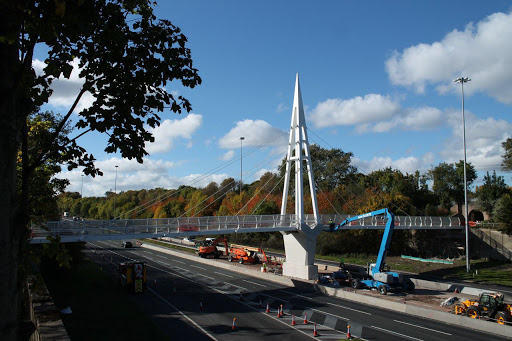bridge: (28, 212, 481, 246)
